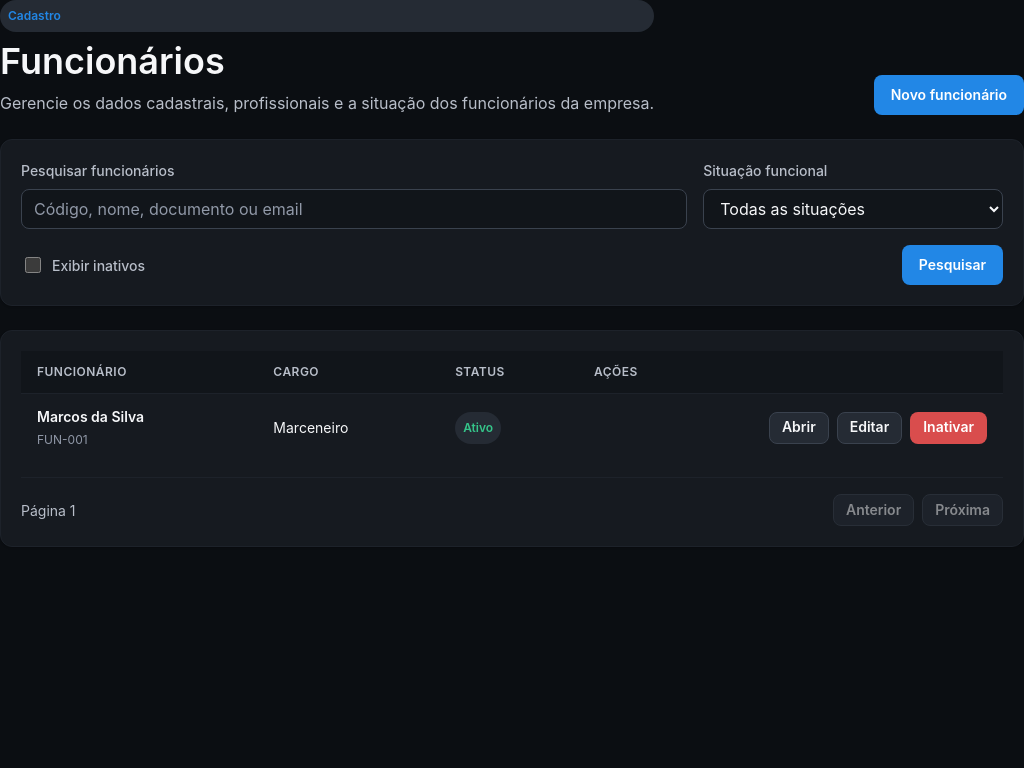
Test: EmployeesRoute › inativa um funcionário após confirmação
Check: the button "Marcos da Silva" is shown, box [37,406,144,427]
Click the button "Inativar" at (949, 428), box [910,412,987,444]
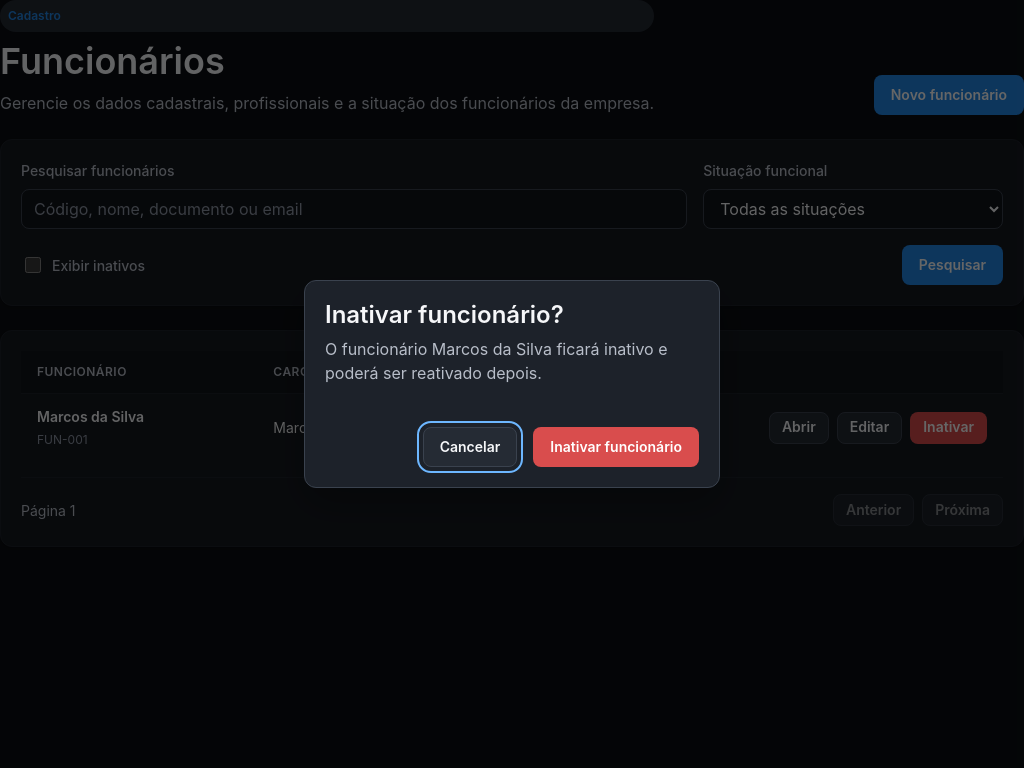
Check: the text "Inativar funcionário?" is shown, box [325,300,564,329]
Click the button "Inativar funcionário" at (616, 447), box [533,427,699,467]
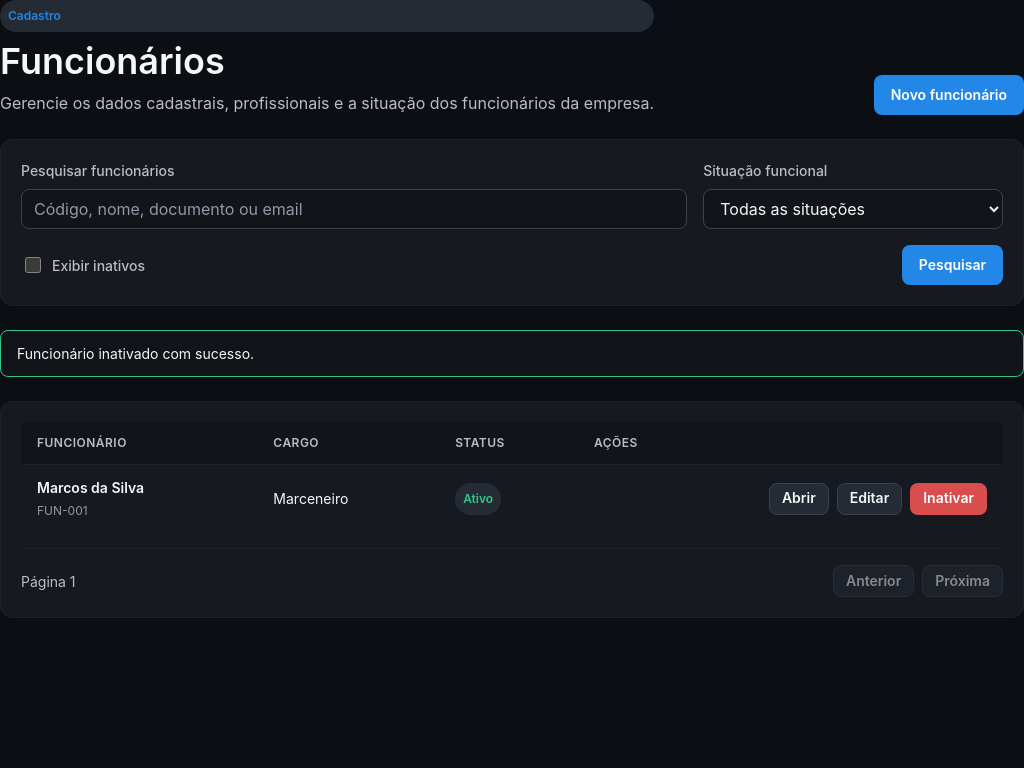
Check: the text "Funcionário inativado com sucesso." is shown, box [0,330,1023,377]
